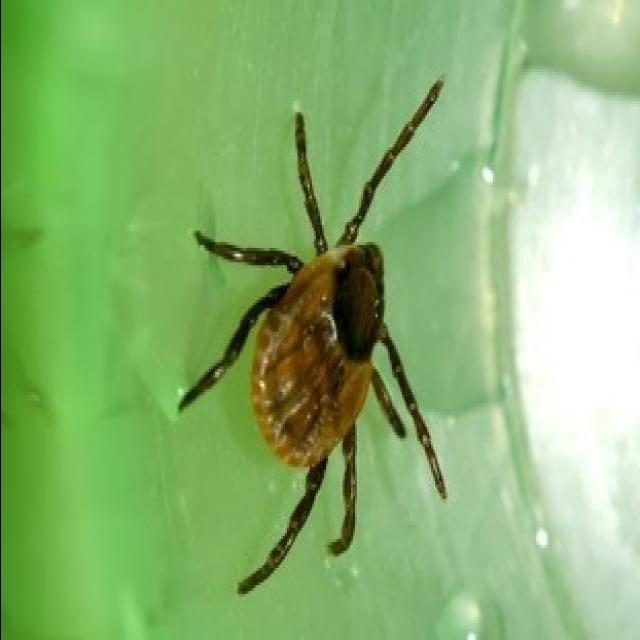Rhipicephalus Sanguineus-F: (177, 78, 447, 594)
